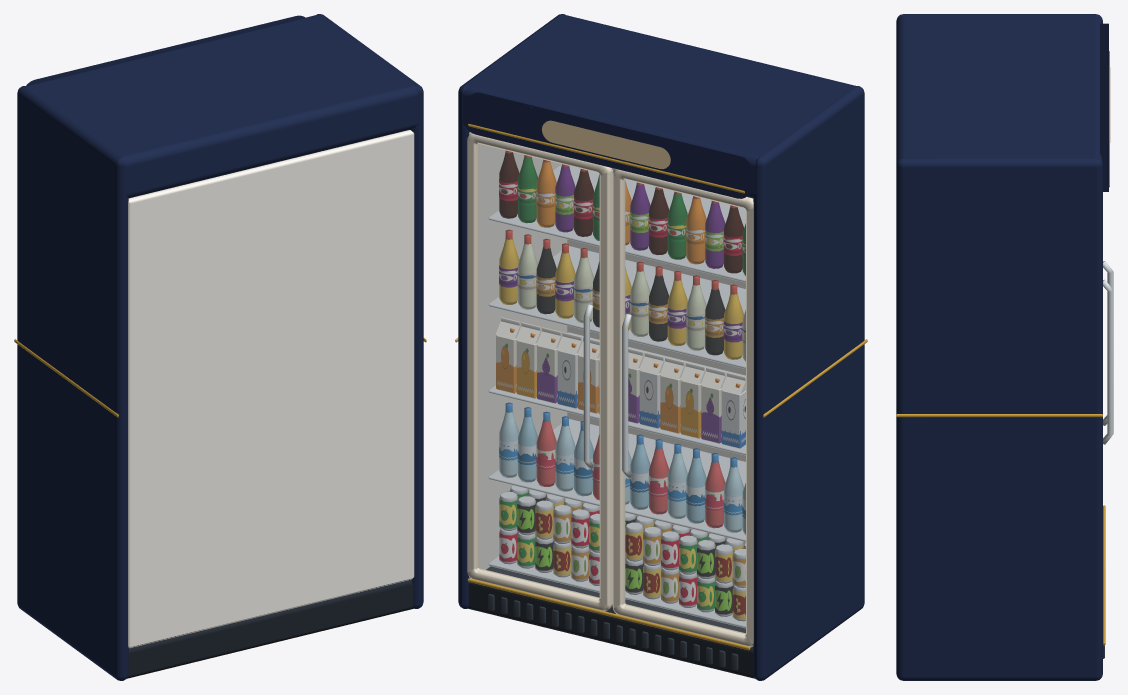
File: drinks_T2.fbx
3 views of the same model, side by side, from view 1: azimuth 30°, elevation 25°; view 2: azimuth 150°, elevation 25°; view 3: azimuth 270°, elevation 25° (orthographic).
Parts seen in each view (by area): view 1: Body; view 2: Body, Anim Fill 0, Anim Fill 2, Anim Fill 3, Anim Fill 1; view 3: Body.
Boxes of the visible parts, x1,y1,x2,y2 form: Body: (14,14,426,680); Body: (455,14,867,680); Anim Fill 0: (496,150,582,577); Anim Fill 2: (630,182,708,607); Anim Fill 3: (697,201,745,621); Anim Fill 1: (557,169,654,594); Body: (896,14,1113,680).
Size of the model in its own units: 1.21 by 1.95 by 0.736.
